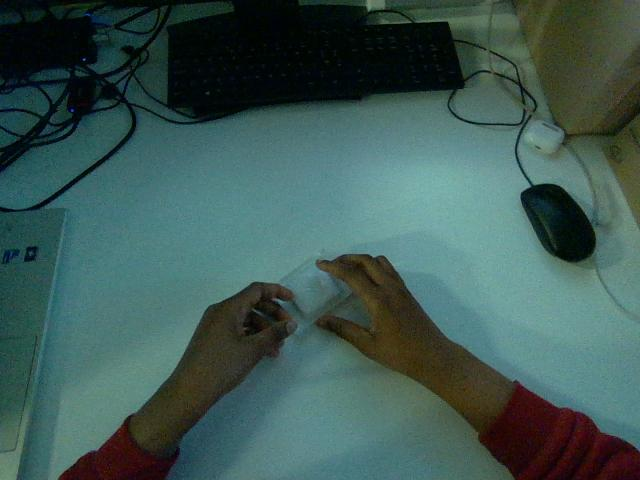gauze: (280, 258, 350, 319)
